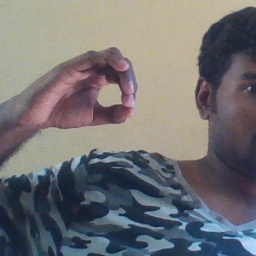O: (27, 44, 140, 131)
